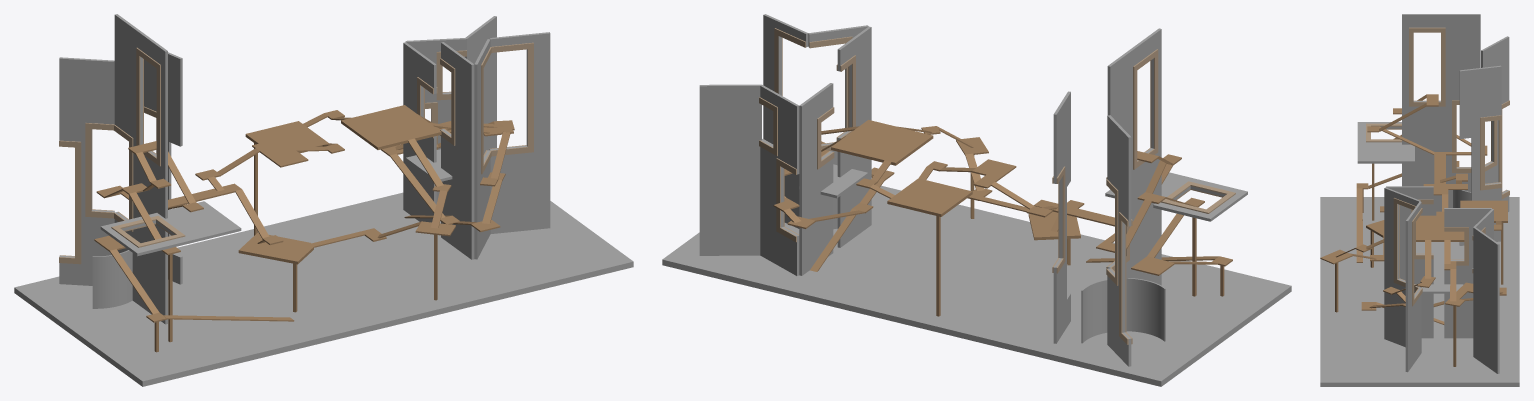
Rendered from 06_KAO.glb.
The picture shows the model from 3 angles, left to right: view 1: azimuth 30°, elevation 25°; view 2: azimuth 150°, elevation 25°; view 3: azimuth 270°, elevation 25°; orthographic projection. The views are drawn at different scales.
Visible parts, largest first — view 1: 01 DIZUO, 06 KAO, 02 JIE, 03 DING, 05AN, 04 ZHUAN; view 2: 01 DIZUO, 06 KAO, 05AN, 03 DING, 04 ZHUAN, 02 JIE; view 3: 01 DIZUO, 06 KAO, 03 DING, 02 JIE, 05AN, 04 ZHUAN.
Boxes of the visible parts, x1=… form: 01 DIZUO: x1=14, y1=105, x2=633, y2=386; 06 KAO: x1=59, y1=14, x2=241, y2=324; 02 JIE: x1=474, y1=32, x2=550, y2=259; 03 DING: x1=403, y1=42, x2=474, y2=259; 05AN: x1=464, y1=16, x2=496, y2=154; 04 ZHUAN: x1=405, y1=38, x2=466, y2=202; 01 DIZUO: x1=662, y1=120, x2=1291, y2=386; 06 KAO: x1=1052, y1=28, x2=1247, y2=366; 05AN: x1=699, y1=84, x2=761, y2=255; 03 DING: x1=799, y1=26, x2=871, y2=275; 04 ZHUAN: x1=759, y1=84, x2=799, y2=275; 02 JIE: x1=763, y1=14, x2=868, y2=229; 01 DIZUO: x1=1320, y1=94, x2=1519, y2=386; 06 KAO: x1=1357, y1=14, x2=1509, y2=245; 03 DING: x1=1386, y1=186, x2=1491, y2=338; 02 JIE: x1=1384, y1=187, x2=1422, y2=372; 05AN: x1=1473, y1=227, x2=1499, y2=373; 04 ZHUAN: x1=1472, y1=209, x2=1493, y2=273.
Size of the model in its own units: 9.23 by 5 by 4.18.
